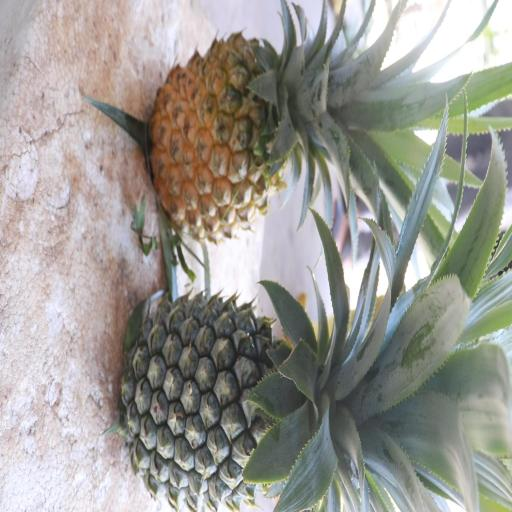Pineapple - v8 v1: (144, 31, 408, 229)
